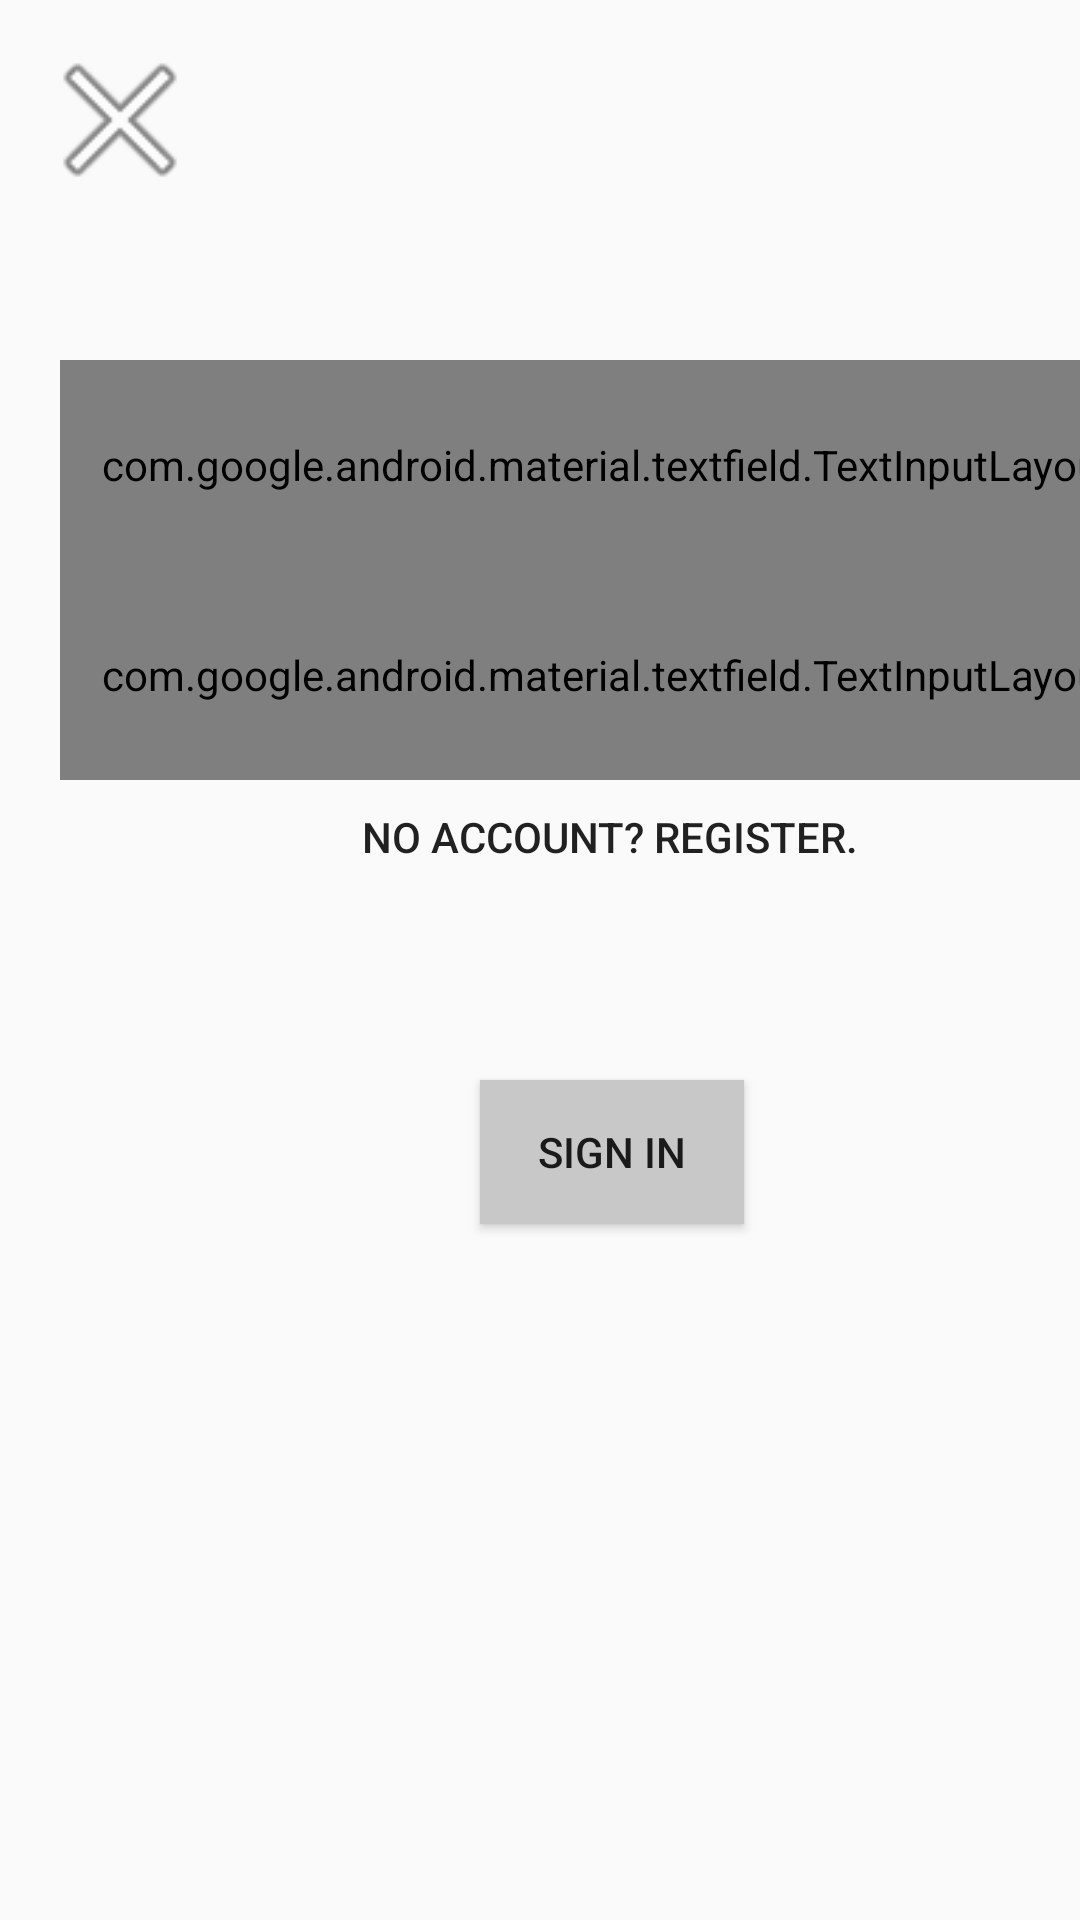

Where icons sit on this 1080w x 1920h app screen, as (x1, y1, x2, y2):
Back: (63, 63, 177, 177)
